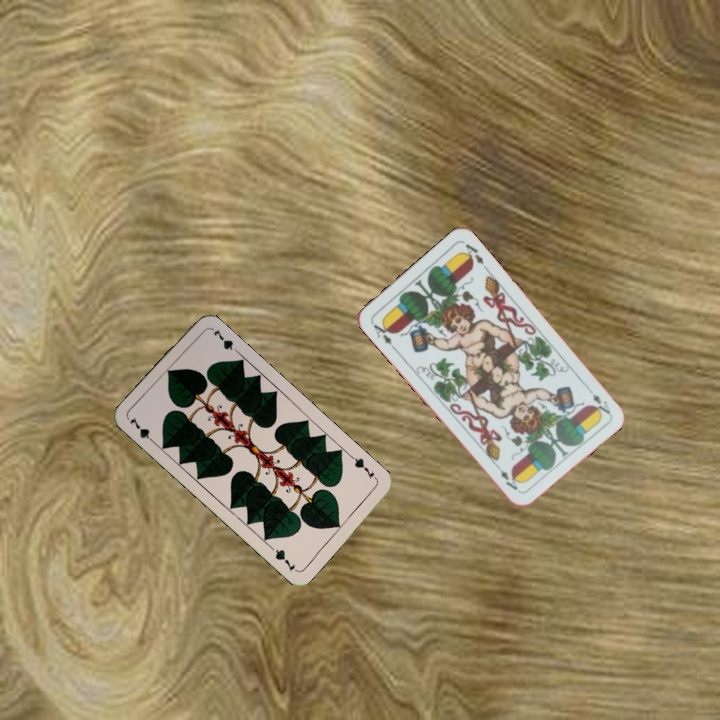EA: (583, 382, 613, 417), (369, 318, 398, 352)
G7: (125, 413, 159, 447), (347, 452, 380, 483)
